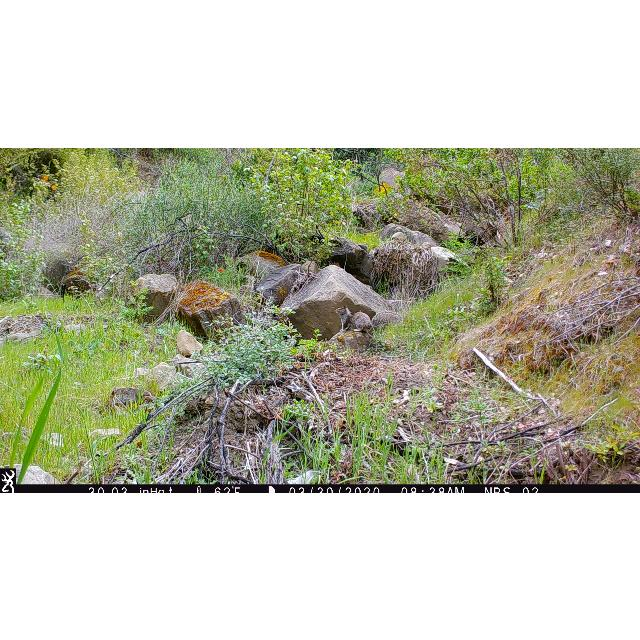animals: (335, 304, 403, 334)
